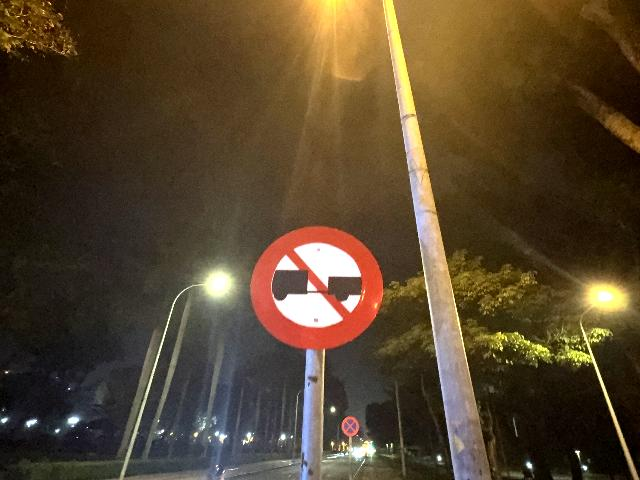cam-xe-somi-romooc: (251, 225, 384, 352)
